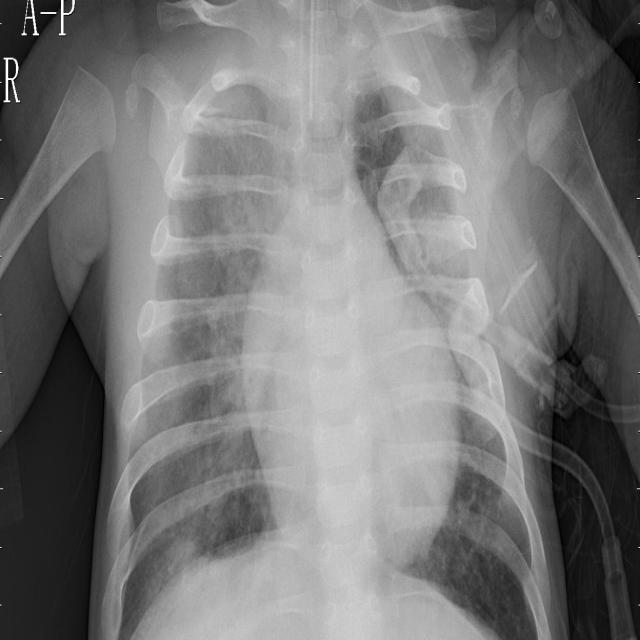low-pneumonia: (203, 94, 286, 289), (206, 297, 255, 481), (376, 163, 442, 288)
